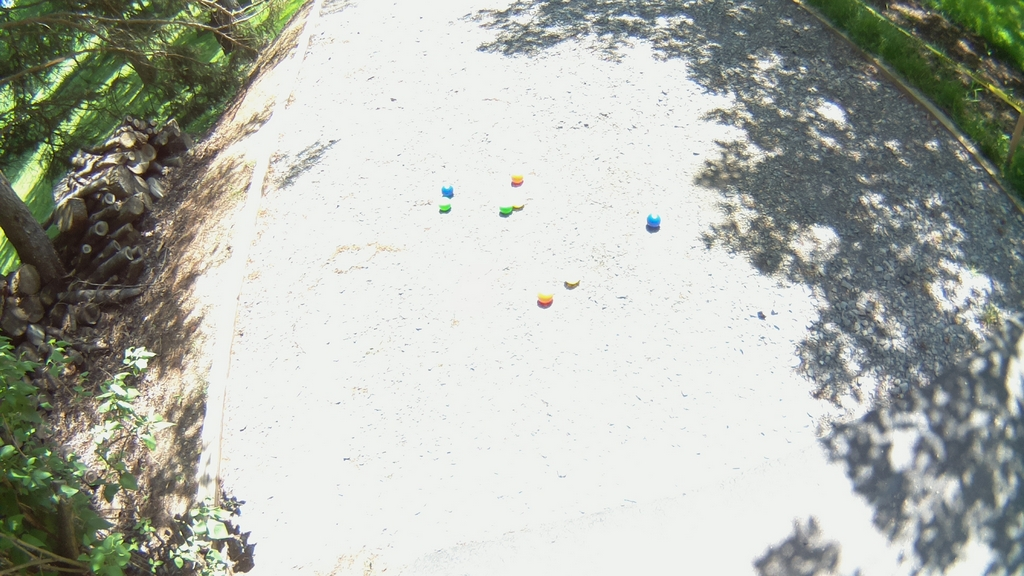ball: (537, 288, 553, 308)
